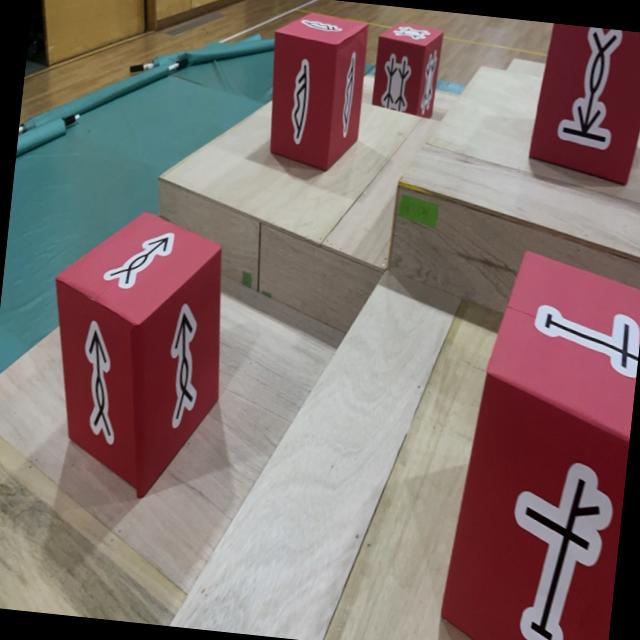11: (288, 56, 314, 144), (340, 51, 358, 138), (299, 17, 343, 34)
12: (74, 320, 126, 446), (162, 300, 206, 430), (100, 224, 176, 294)
6: (380, 51, 412, 112), (420, 48, 438, 116), (390, 24, 430, 42)
7: (555, 25, 622, 152)
9: (499, 454, 617, 640), (528, 301, 640, 379)
fighter: (436, 243, 640, 640), (32, 202, 238, 506), (525, 21, 640, 187), (260, 8, 370, 175), (369, 19, 444, 118)
